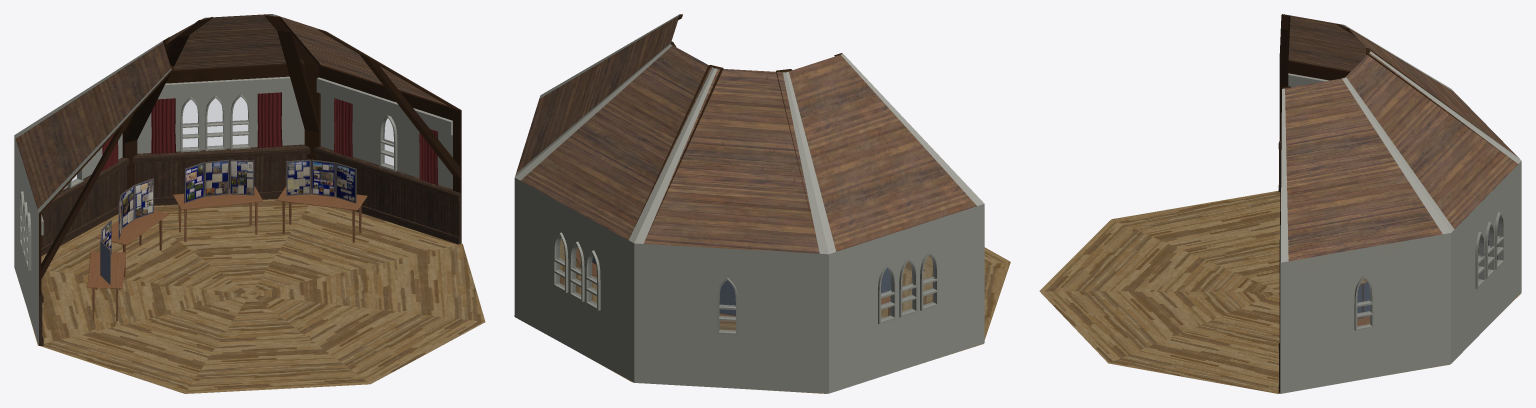
Rendered from quest-bounty-pavilion.glb.
The picture shows the model from 3 angles, left to right: view 1: azimuth 30°, elevation 25°; view 2: azimuth 150°, elevation 25°; view 3: azimuth 270°, elevation 25°; orthographic projection. The views are drawn at different scales.
Visible parts, largest first — view 1: Object_17, Object_19, Object_27, Object_23, Object_24, Object_20, Object_26, Object_3, Object_22, Object_25, Object_2, Object_18 (+7 smaller); view 2: Object_23, Object_19, Object_25, Object_2, Object_17, Object_27, Object_16; view 3: Object_19, Object_17, Object_23, Object_27, Object_25, Object_2.
Part boxes in pixels (box(x1,y1,x2,y2)): Object_17: box(28, 199, 485, 393); Object_19: box(15, 14, 447, 209); Object_27: box(39, 15, 461, 295); Object_23: box(14, 14, 452, 345); Object_24: box(39, 154, 461, 345); Object_20: box(39, 144, 461, 345); Object_26: box(87, 186, 367, 321); Object_3: box(102, 92, 437, 184); Object_22: box(41, 76, 452, 235); Object_25: box(19, 94, 397, 270); Object_2: box(72, 97, 393, 182); Object_18: box(100, 159, 356, 284); Object_23: box(514, 14, 984, 393); Object_19: box(516, 15, 976, 253); Object_25: box(553, 232, 938, 335); Object_2: box(557, 236, 934, 331); Object_17: box(514, 238, 1010, 393); Object_27: box(630, 14, 842, 236); Object_16: box(592, 256, 890, 314); Object_19: box(1285, 15, 1518, 261); Object_17: box(1039, 190, 1521, 393); Object_23: box(1280, 24, 1521, 393); Object_27: box(1279, 14, 1506, 343); Object_25: box(1354, 212, 1504, 330); Object_2: box(1357, 218, 1500, 327).
Bounding box in the file's own units: 11.16 × 6.14 × 11.16.
Materials: 25 (22 with a texture image).
